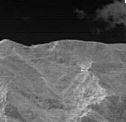Target: (76, 62, 93, 72)
